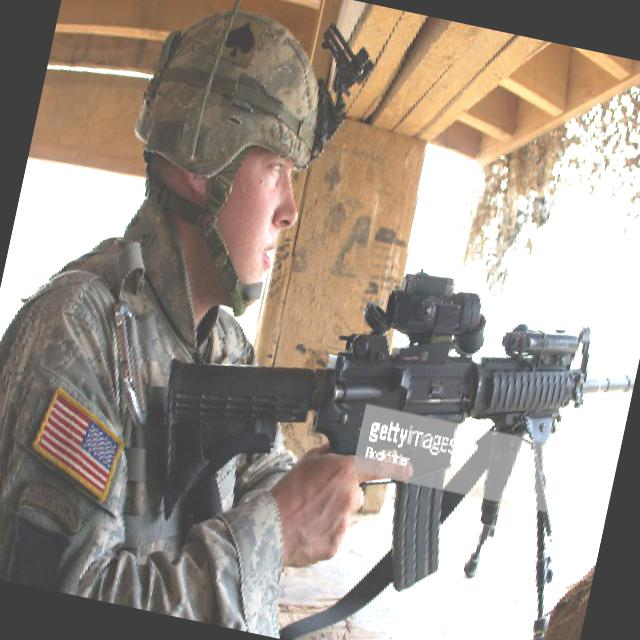long weapon: (125, 225, 639, 628)
